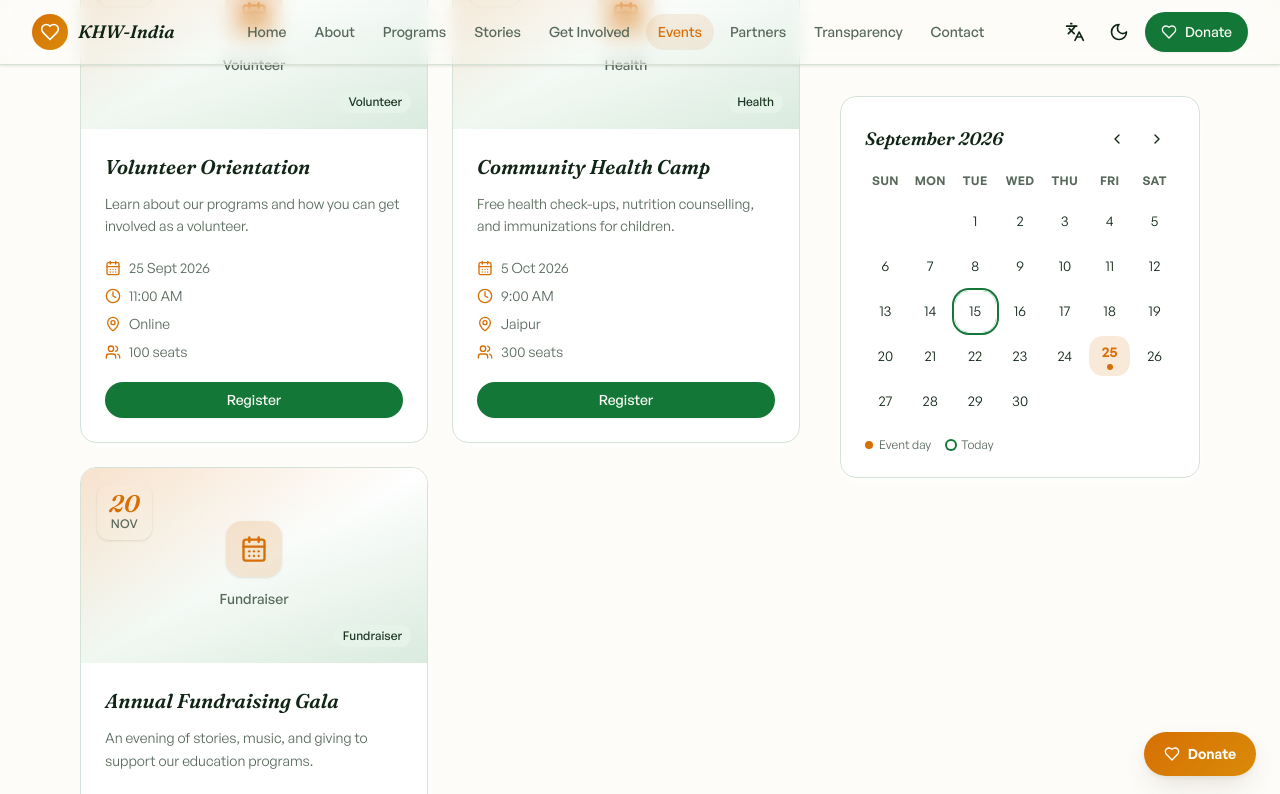
Scenario: Event registration › registers for an event and stores the registration
(page scrolled)
// Open the registration dialog for the first upcoming event.
Click the button "Register" below "11:00 AM" at (254, 400), box [105,382,403,418]
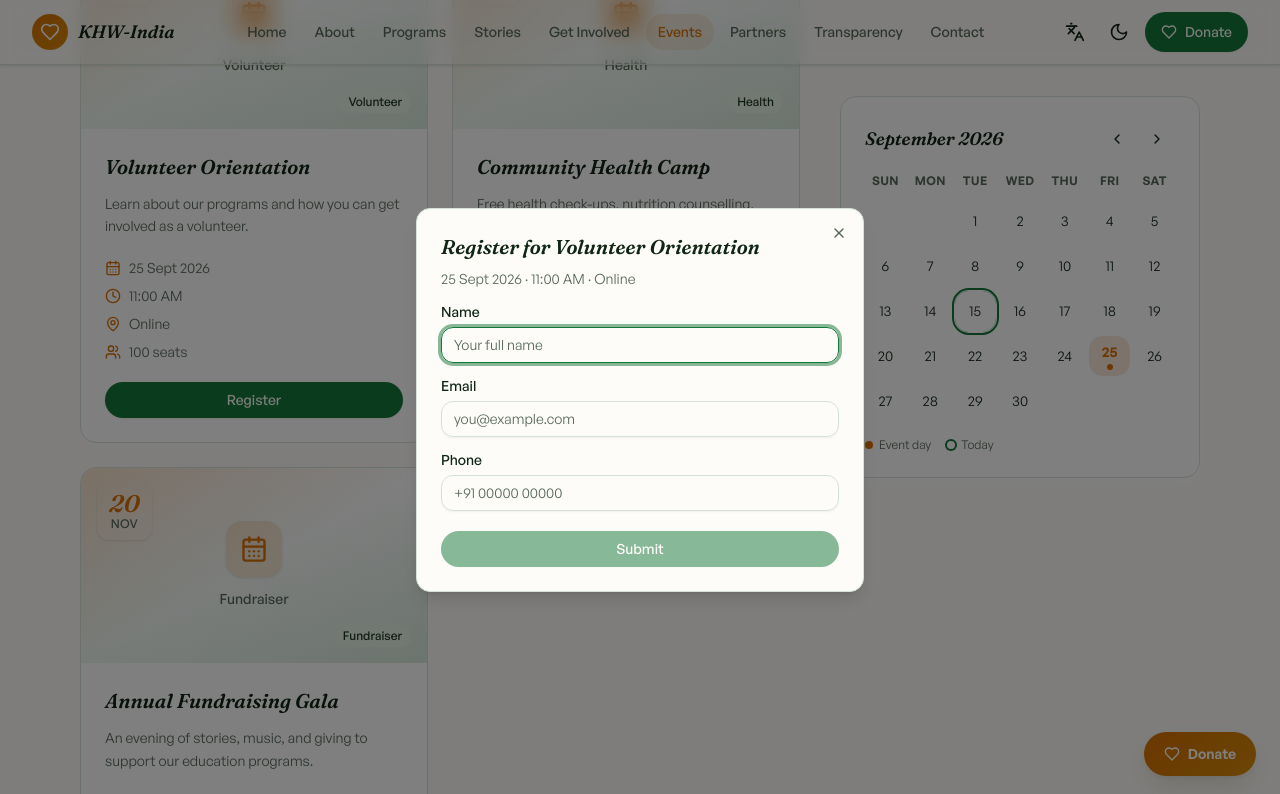
Type "Amit" into the field with test id "events.registration_name_input" at (640, 345), box [441,327,839,363]
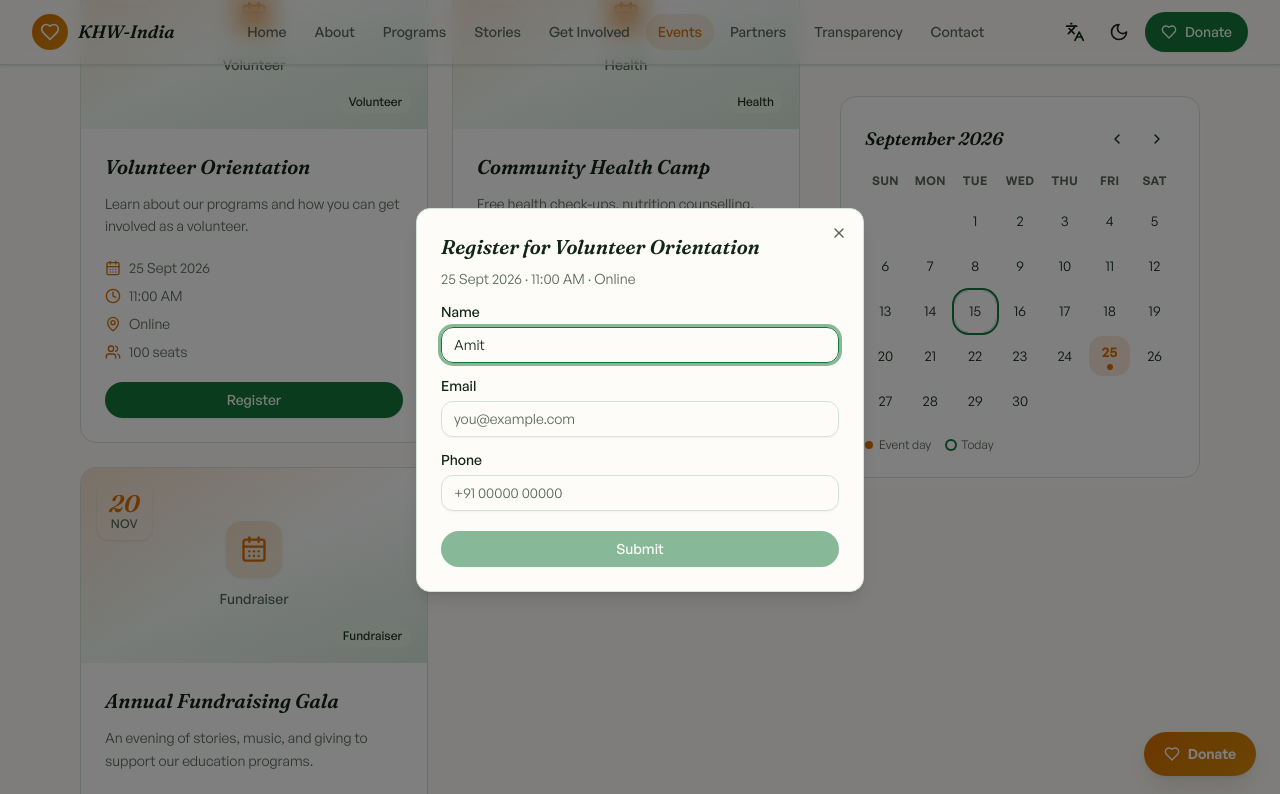
Type "amit@example.com" into the field with test id "events.registration_email_input" at (640, 419), box [441,401,839,437]
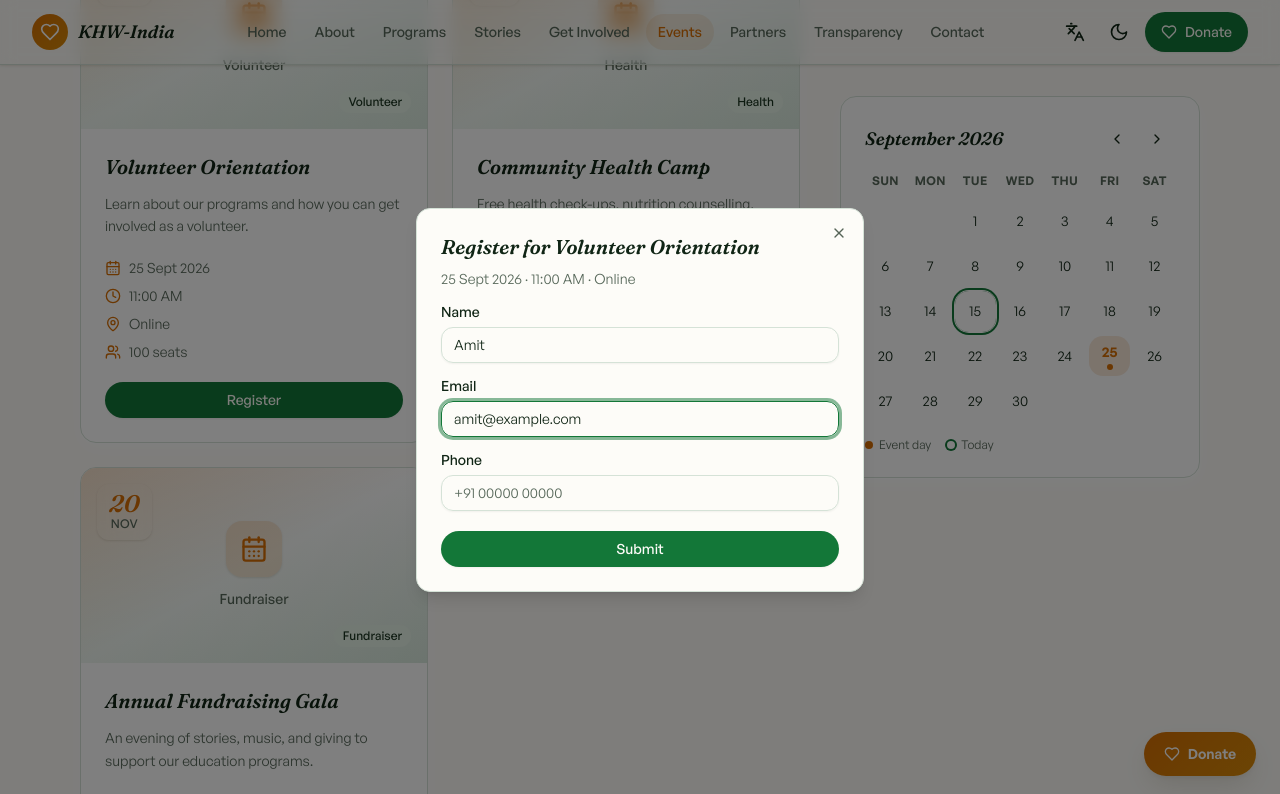
Click the button with test id "events.registration_submit_button" at (640, 549), box [441,531,839,567]
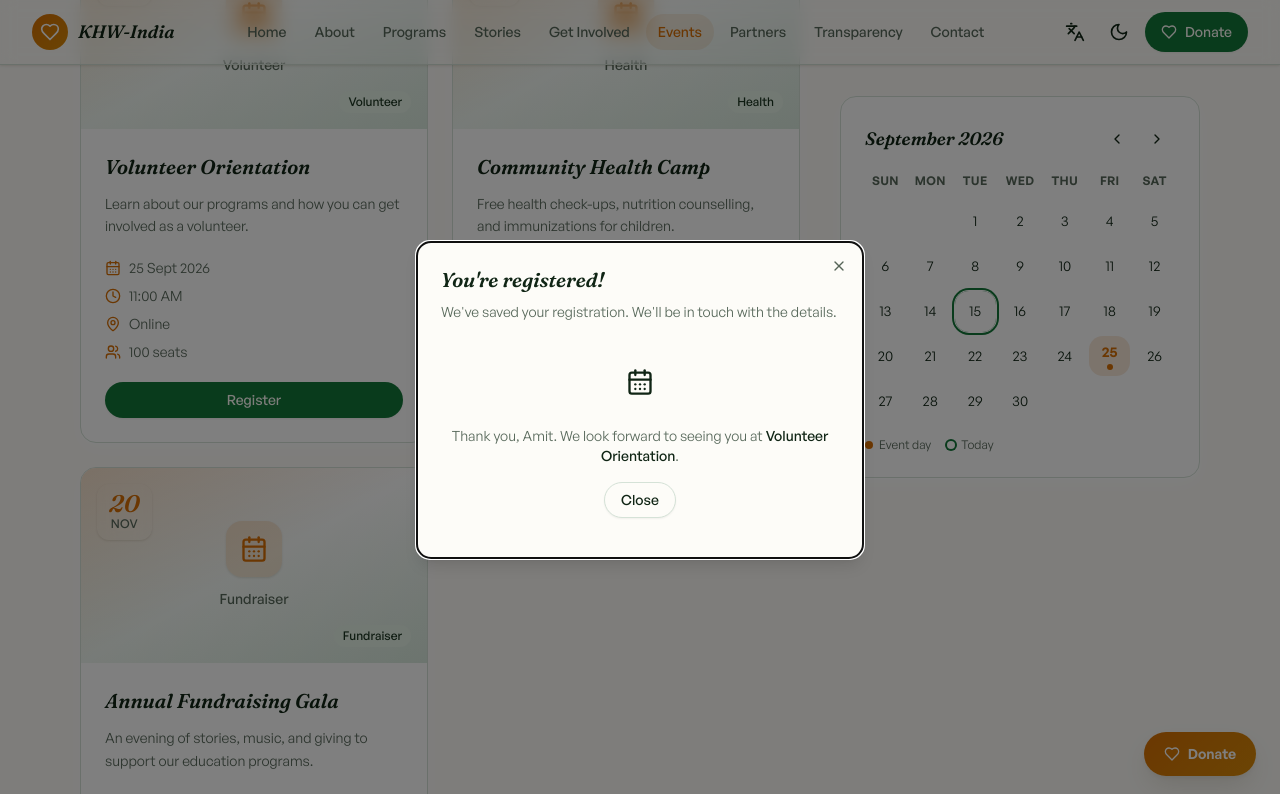
Now the heading "You're registered!" is shown, box [441,267,604,292]
